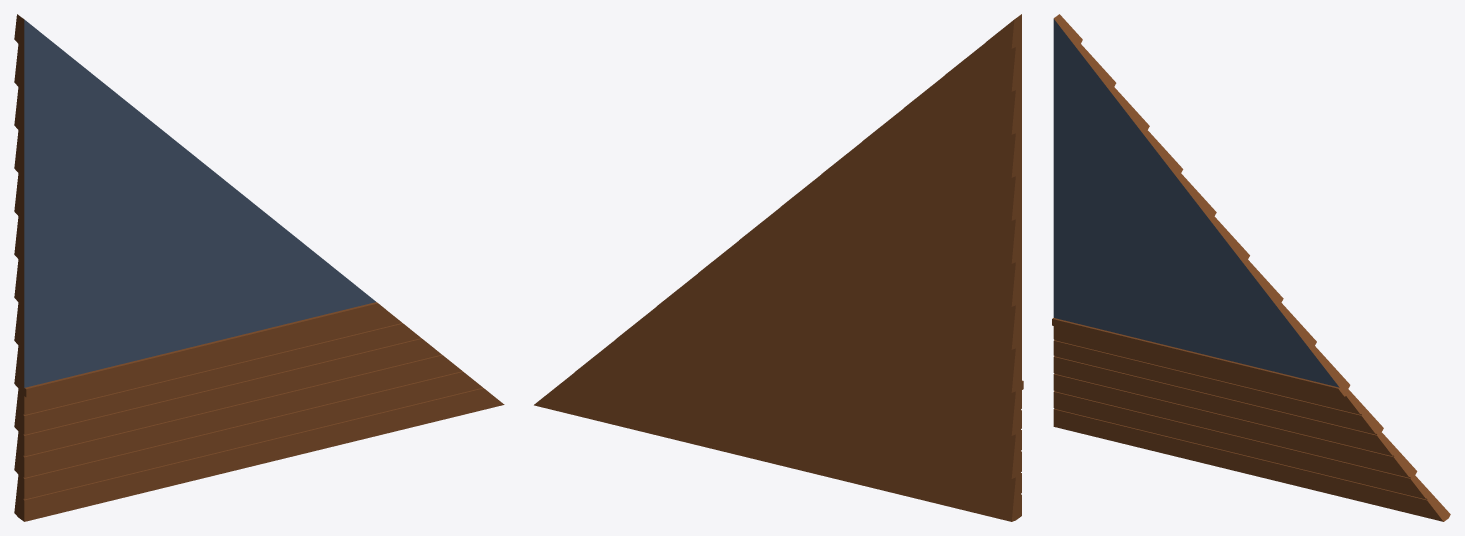
File: ww_triangle_wall_b.glb
The picture shows the model from 3 angles, left to right: view 1: azimuth 30°, elevation 25°; view 2: azimuth 150°, elevation 25°; view 3: azimuth 330°, elevation 25°; orthographic projection. The views are drawn at different scales.
Parts seen in each view (by area): view 1: Triangle_Wall_B; view 2: Triangle_Wall_B; view 3: Triangle_Wall_B.
Boxes of the visible parts, <box> form: Triangle_Wall_B: <box>14,14,504,521</box>; Triangle_Wall_B: <box>534,14,1023,521</box>; Triangle_Wall_B: <box>1052,14,1450,521</box>.
Bounding box in the file's own units: 5.13 × 5.13 × 0.2206.
